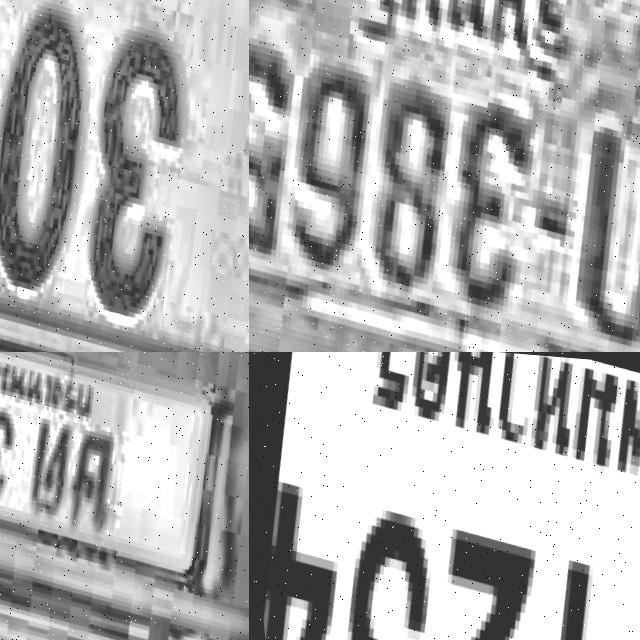license-plate: (249, 0, 640, 352), (249, 352, 640, 640), (0, 0, 249, 352), (0, 352, 249, 640)
